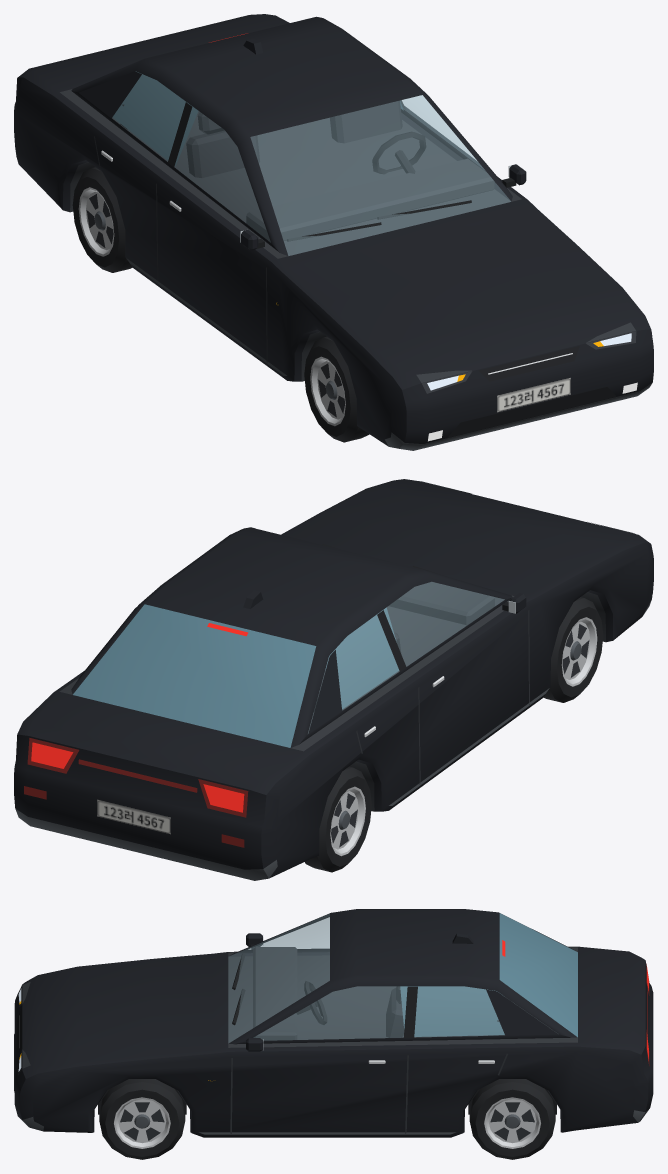
File: SC_Veh_Car_Sedan_Black.gltf
3 renders of one model, top to bottom at view 1: azimuth 30°, elevation 25°; view 2: azimuth 150°, elevation 25°; view 3: azimuth 270°, elevation 25°, orthographic. The views are drawn at different scales.
Parts seen in each view (by area): view 1: SC_Veh_Car_Sedan_Black; view 2: SC_Veh_Car_Sedan_Black; view 3: SC_Veh_Car_Sedan_Black.
Part boxes in pixels (x1,y1,x2,y2): SC_Veh_Car_Sedan_Black: (14, 14, 653, 450); SC_Veh_Car_Sedan_Black: (14, 479, 653, 880); SC_Veh_Car_Sedan_Black: (14, 909, 653, 1159).
Bounding box in the file's own units: 1.97 × 1.51 × 4.91.
Materials: 4 (4 with a texture image).
